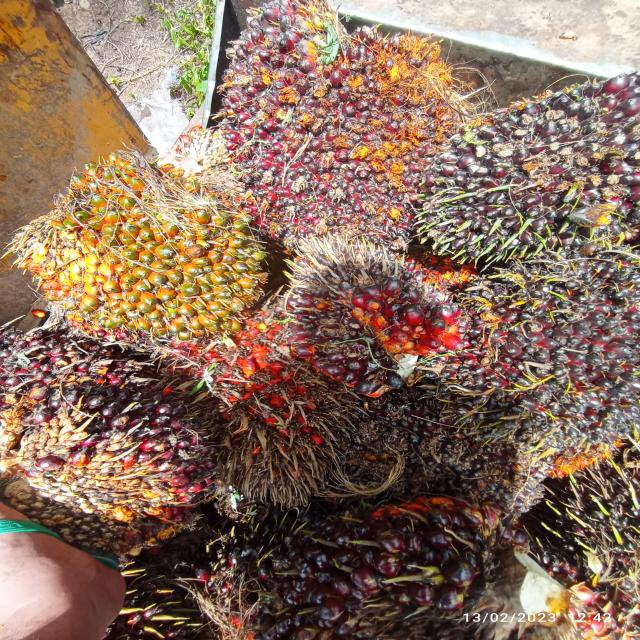fraksi 1: (210, 506, 563, 640), (421, 72, 640, 264), (0, 327, 214, 521), (473, 232, 640, 452), (287, 242, 458, 393)
fraksi 3: (219, 0, 444, 253)
fraksi 4: (164, 321, 360, 514)
